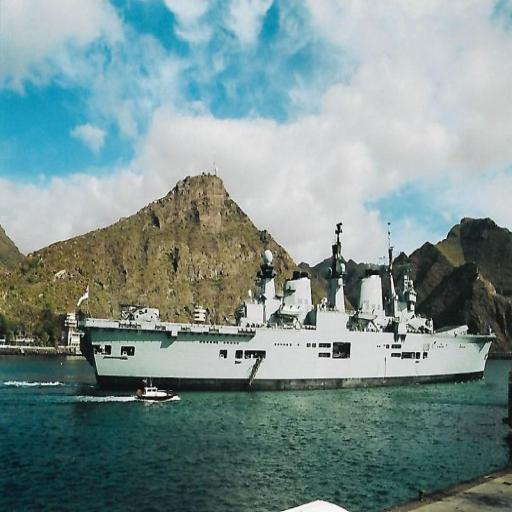Portanaves: (79, 208, 500, 401)
